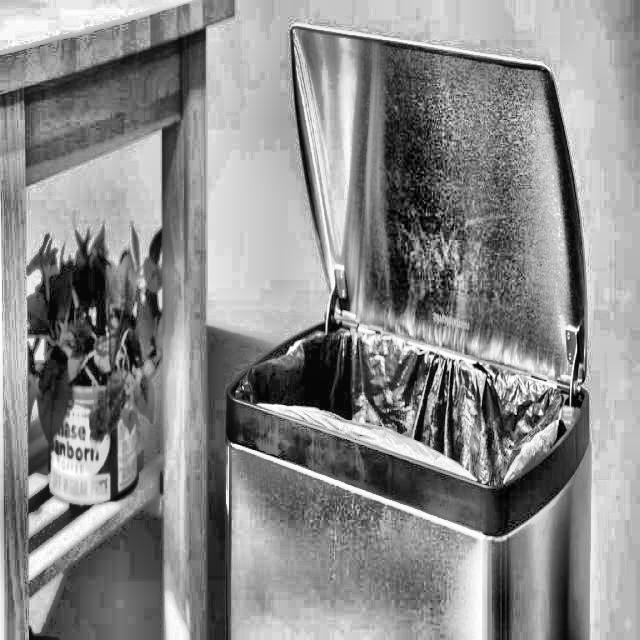Dustbin: (214, 27, 594, 637)
Empty: (251, 314, 597, 500)
